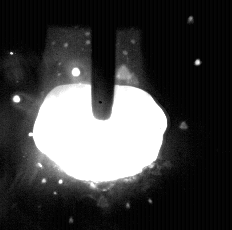arame: (92, 0, 116, 120)
poca: (28, 0, 166, 230)
